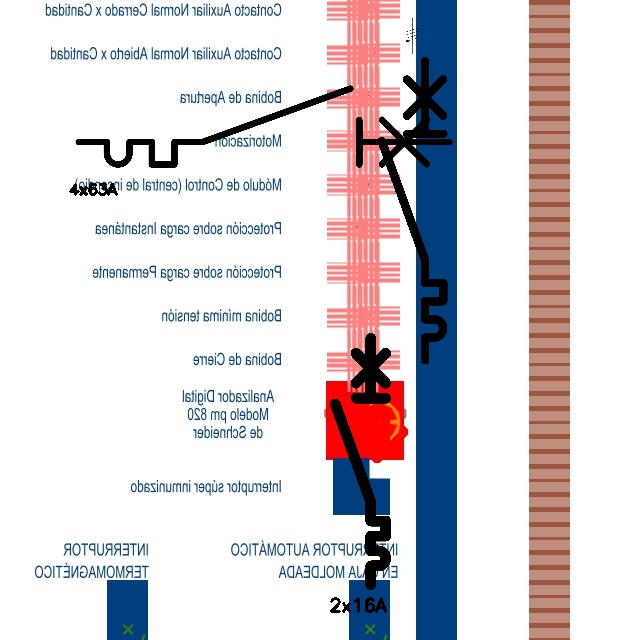interruptor_termomagnetico: (69, 79, 459, 174), (374, 53, 451, 368), (329, 332, 392, 591)
